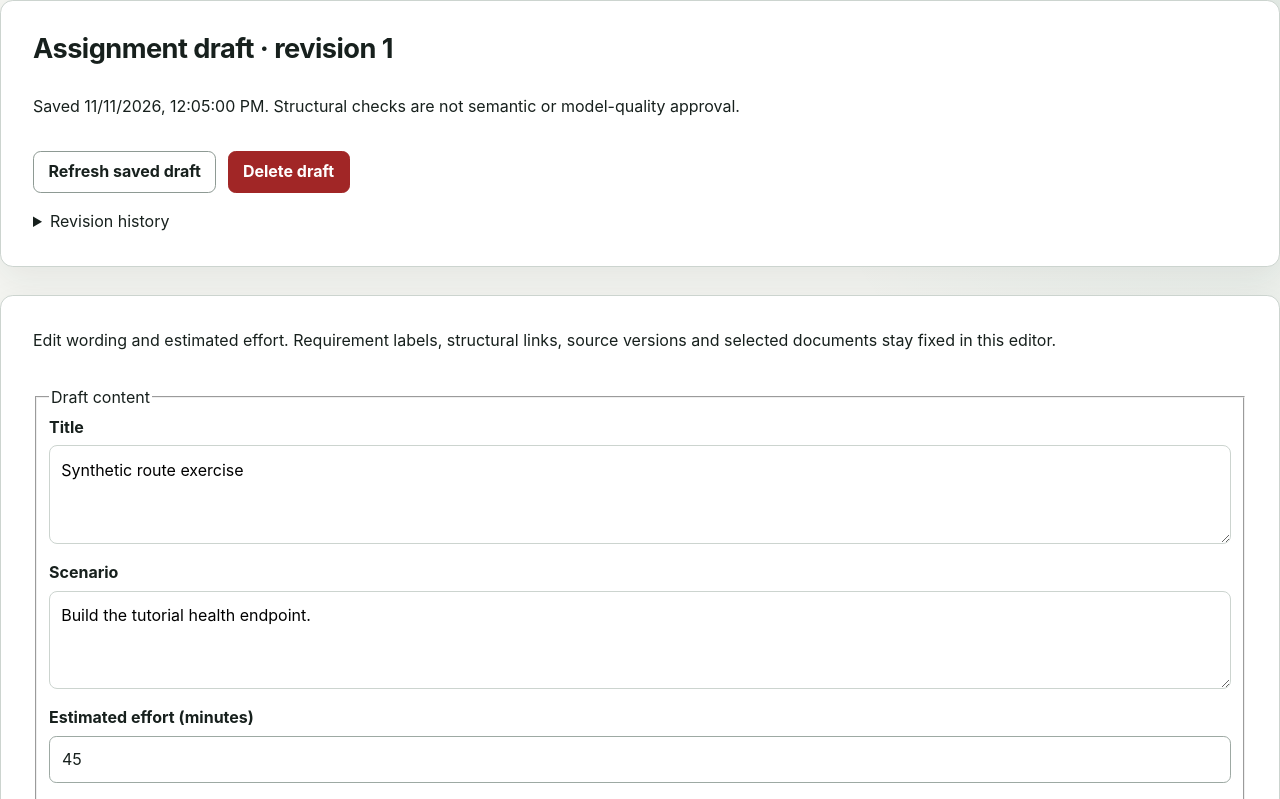
draft review and conflict-safe editing › does not restore a deleted draft from a late successful save
Replace the text in the text box labelled "Title" with "Edited route exercise": (640, 495) [49,446,1231,544]
(page scrolled)
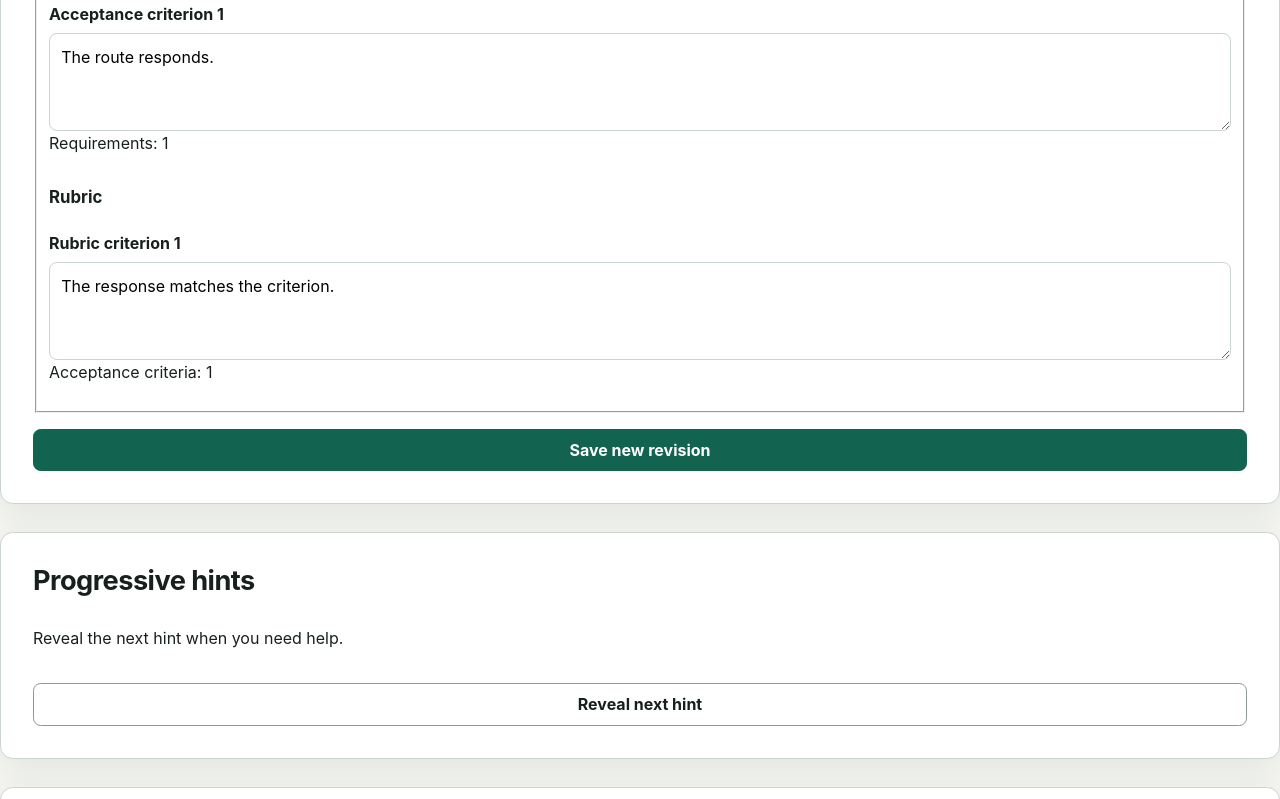
Click the button "Save new revision": click(640, 450) [33,429,1247,472]
(page scrolled)
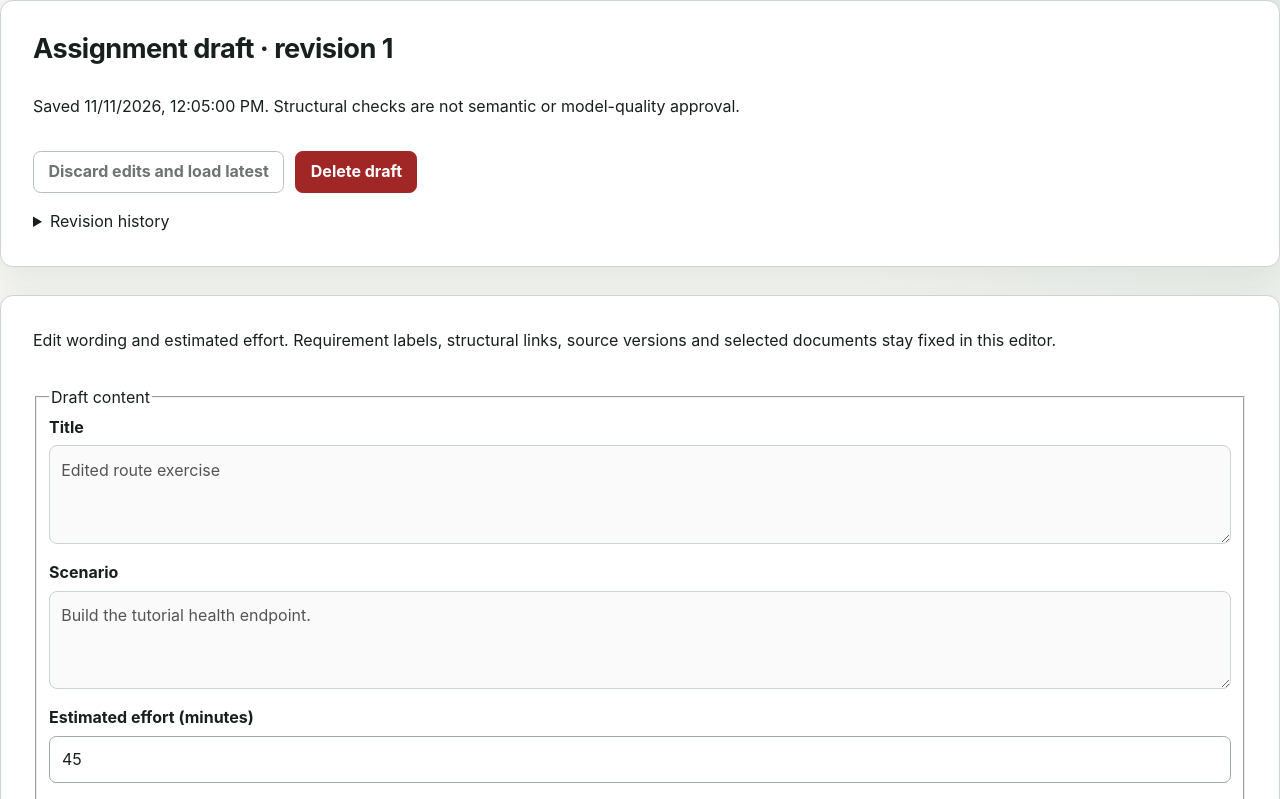
Click the button "Delete draft": click(356, 172) [295,151,417,193]
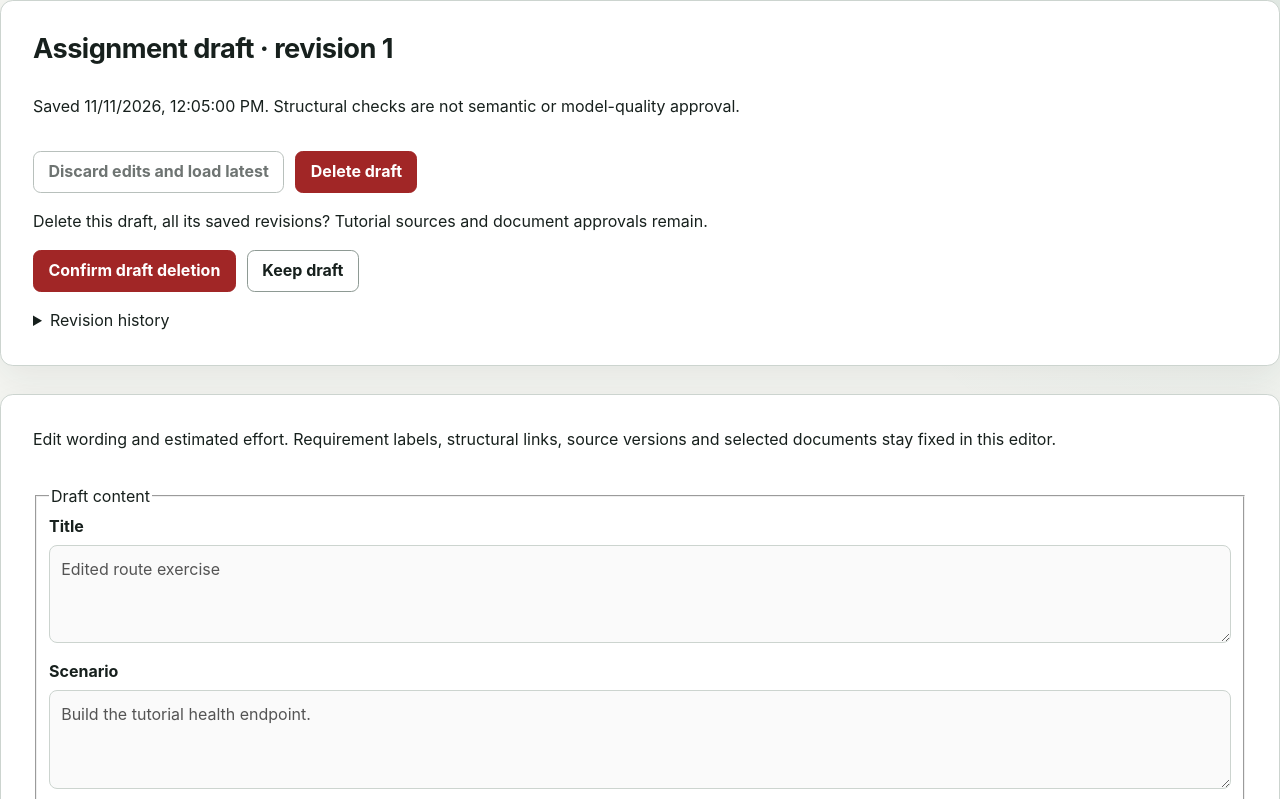
Click the button "Confirm draft deletion": click(134, 271) [33,250,236,292]
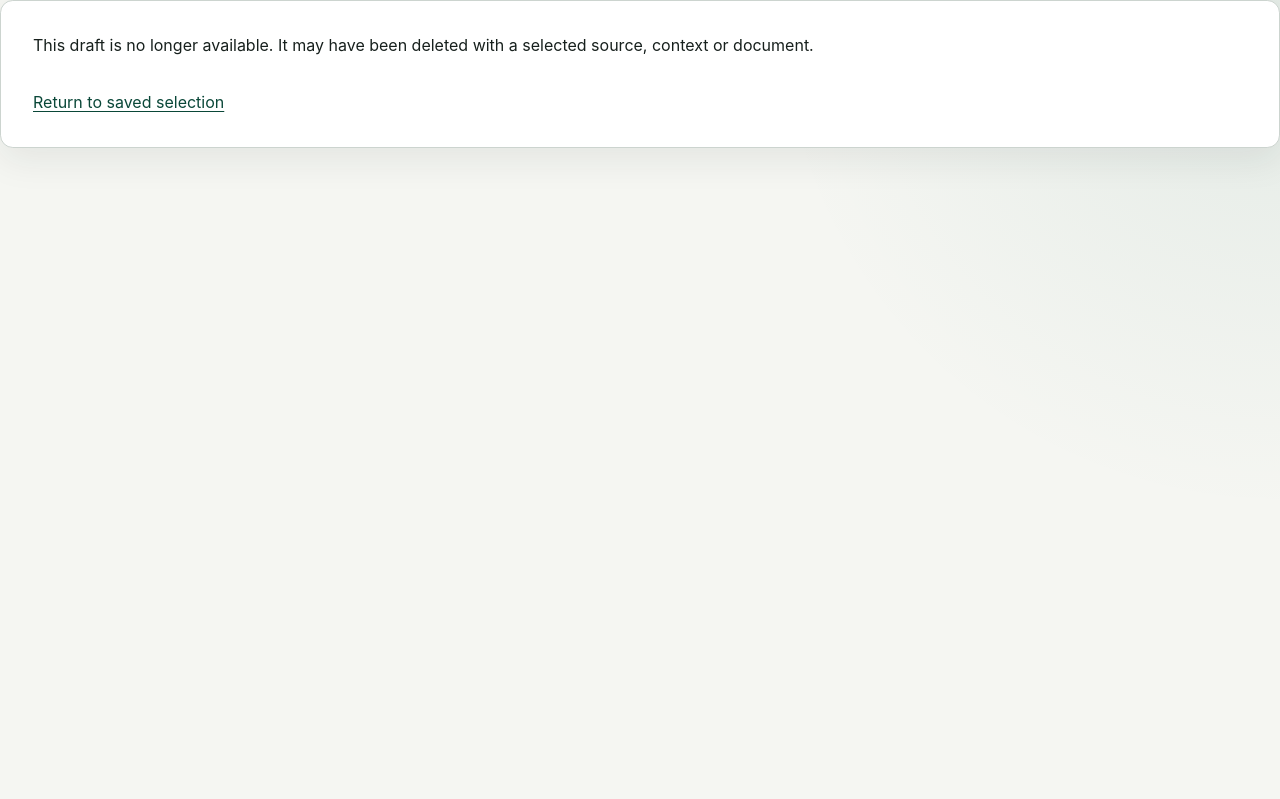
Result: the text "This draft is no longer available" is shown at [33,35,814,55]
Result: the label labelled "Title" is gone
